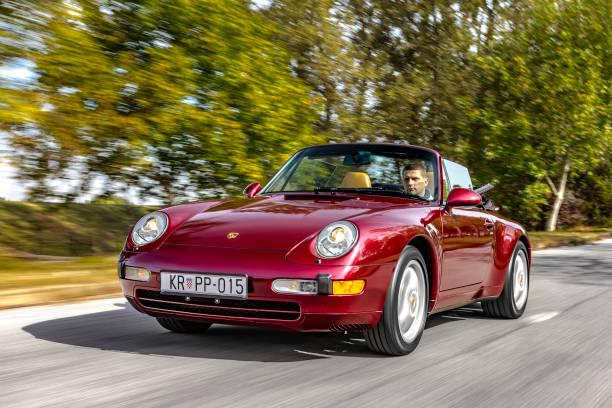porsche: (222, 228, 244, 242)
